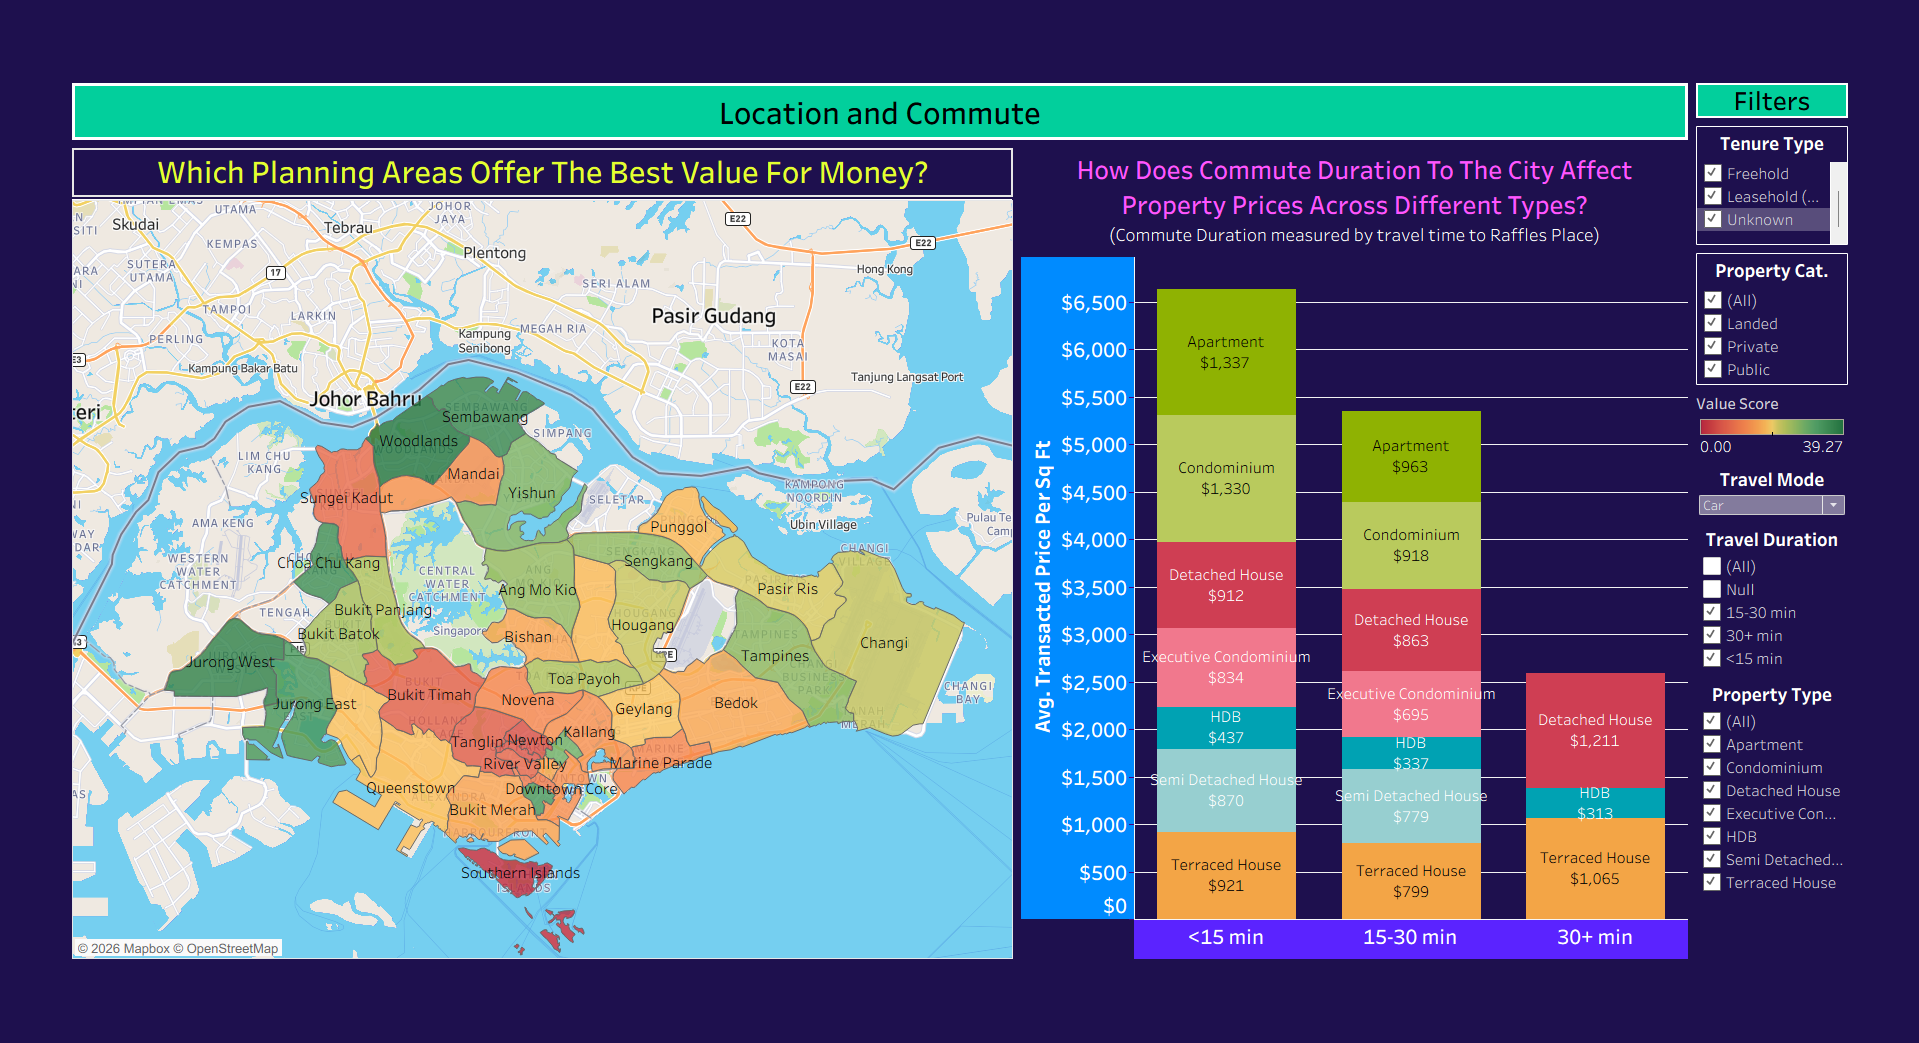

What the dashboard file says about the page in this screenshot:
{"tool":"tableau","page":{"name":"Dashboard 2 —  Location & Commute","canvas":[1800,900],"ordinal":1},"visuals":[{"type":"title","box":[8,8,1784,107]},{"type":"worksheet","title":"Chart 3 — Filled Map (Value Score)","mark":"Multipolygon","box":[8,115,949,777]},{"type":"worksheet","title":"Chart 2 — Stacked Bar (Commute vs Price)","mark":"Automatic","rows":["TransactedPricePerSqFt"],"cols":["Calculation_3161926376439808"],"box":[957,115,672,777]},{"type":"text","box":[1629,115,163,43]},{"type":"filter","title":"Chart 3 — Filled Map (Value Score)","param":"[federated.1q84nl109sxkft18igaiv0syhhrs].[none:PropertyTenureType:nk]","box":[1629,158,163,127]},{"type":"filter","title":"Chart 3 — Filled Map (Value Score)","param":"[federated.1q84nl109sxkft18igaiv0syhhrs].[none:PropertyCategory:nk]","box":[1629,285,163,140]},{"type":"parameter","param":"[Parameters].[Parameter 2]","box":[1629,425,163,60]},{"type":"filter","title":"Chart 2 — Stacked Bar (Commute vs Price)","param":"[federated.1q84nl109sxkft18igaiv0syhhrs].[none:Calculation_3161926376439808:nk]","box":[1629,485,163,147.5]},{"type":"filter","title":"Chart 2 — Stacked Bar (Commute vs Price)","param":"[federated.1q84nl109sxkft18igaiv0syhhrs].[none:PropertyTypeLabel:nk]","box":[1629,632.5,163,147.5]},{"type":"text","box":[1629,780,163,33]},{"type":"legend","title":"Chart 3 — Filled Map (Value Score)","param":"[federated.1q84nl109sxkft18igaiv0syhhrs].[usr:Calculation_3161926380855297:qk]","box":[1629,813,163,79]}]}

Visuals, with their boxes on the page's 1800x900 design canvas (x1, y1, x2, y2). These are canvas units, not pixel positions in the 1919x1043 screenshot, which may show the page scaled, cropped or inside an application window:
title: bbox(8, 8, 1792, 115)
"Chart 3 — Filled Map (Value Score)" worksheet (Multipolygon marks): bbox(8, 115, 957, 892)
"Chart 2 — Stacked Bar (Commute vs Price)" worksheet: bbox(957, 115, 1629, 892)
text: bbox(1629, 115, 1792, 158)
"Chart 3 — Filled Map (Value Score)" filter: bbox(1629, 158, 1792, 285)
"Chart 3 — Filled Map (Value Score)" filter: bbox(1629, 285, 1792, 425)
parameter: bbox(1629, 425, 1792, 485)
"Chart 2 — Stacked Bar (Commute vs Price)" filter: bbox(1629, 485, 1792, 632)
"Chart 2 — Stacked Bar (Commute vs Price)" filter: bbox(1629, 632, 1792, 780)
text: bbox(1629, 780, 1792, 813)
"Chart 3 — Filled Map (Value Score)" legend: bbox(1629, 813, 1792, 892)
